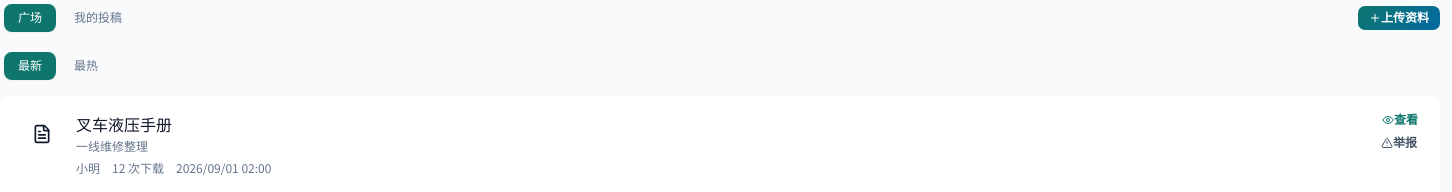
ContributionTab 学员投稿（#517） › 「我的投稿」显示状态徽章与撤回按钮（pending）
Click the radio button labelled "我的投稿" at (98, 18), box [60,4,136,32]
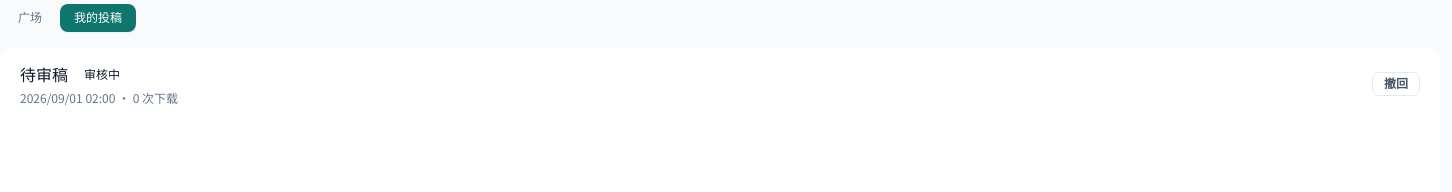
Now the text "待审稿" is shown, box [20,62,68,86]
Now the text "审核中" is shown, box [84,65,120,82]
Now the text "撤回" is shown, box [1384,78,1408,90]
